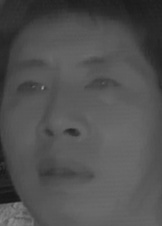eye: (81, 74, 123, 97), (13, 75, 49, 100)
mouth: (28, 155, 94, 196)
